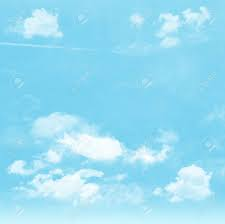sky: (1, 1, 225, 224)
